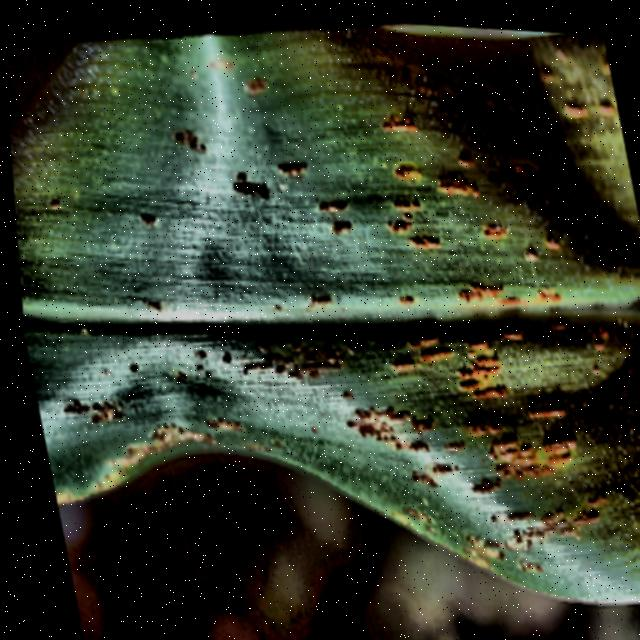common_rust: (3, 21, 640, 629)
